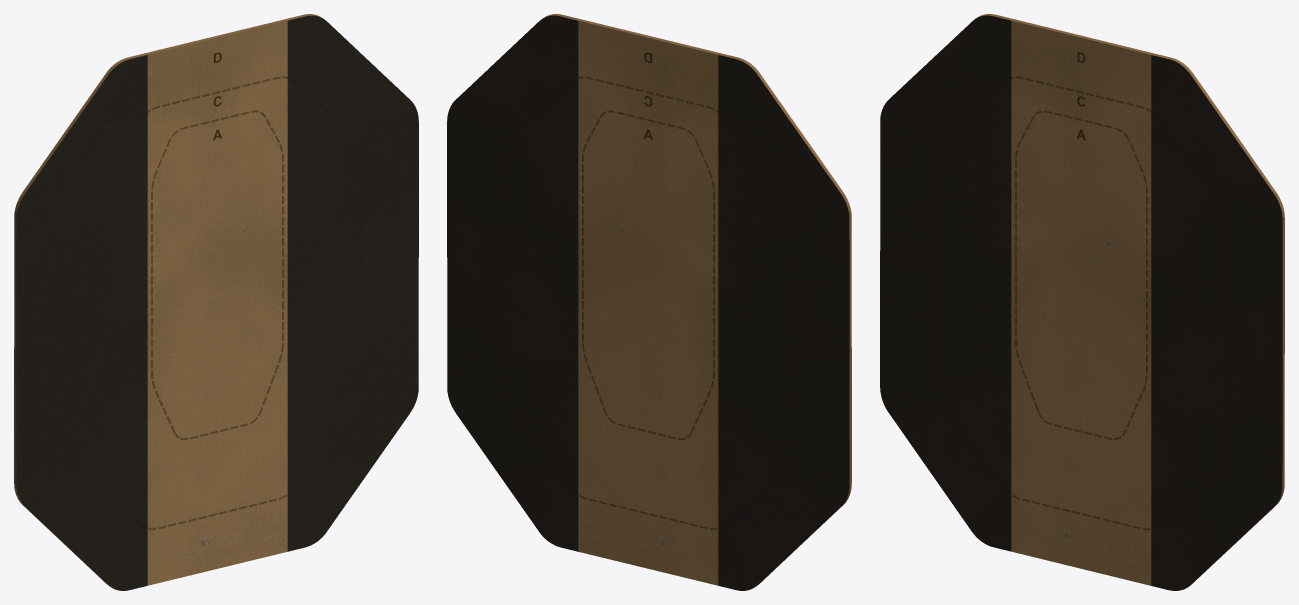
File: obj_paper_hc_vertical_card.glb
3 views of the same model, side by side, from view 1: azimuth 30°, elevation 25°; view 2: azimuth 150°, elevation 25°; view 3: azimuth 330°, elevation 25° (orthographic).
Parts seen in each view (by area): view 1: card; view 2: card; view 3: card.
Boxes of the visible parts, x1=… form: card: x1=14, y1=14, x2=418, y2=590; card: x1=447, y1=14, x2=851, y2=590; card: x1=880, y1=14, x2=1284, y2=590.
Size of the model in its own units: 0.46 by 0.58 by 0.0045.
2 materials, 1 textured.
